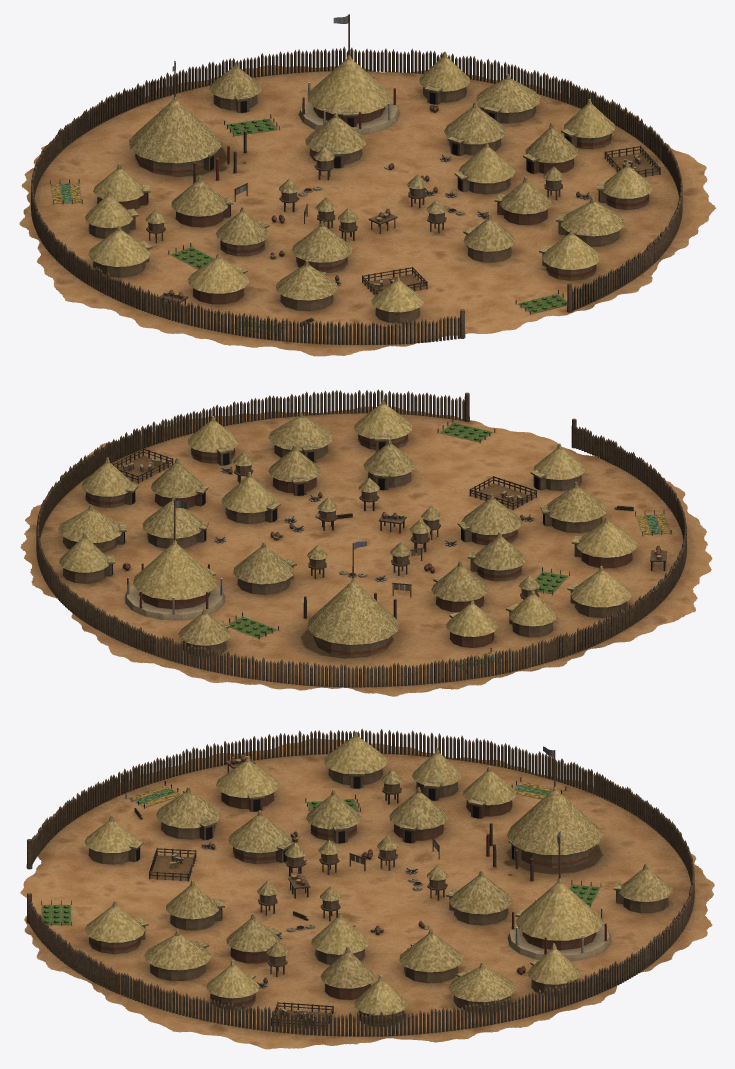
File: stone-town-big-a.glb
The picture shows the model from 3 angles, top to bottom: view 1: azimuth 30°, elevation 25°; view 2: azimuth 150°, elevation 25°; view 3: azimuth 270°, elevation 25°; orthographic projection. The views are drawn at different scales.
Visible parts, largest first — view 1: LOD0; view 2: LOD0; view 3: LOD0.
Part boxes in pixels (box(x1,y1,x2,y2)): LOD0: box(19, 14, 715, 356); LOD0: box(20, 389, 712, 696); LOD0: box(20, 728, 714, 1049).
Size of what is drawn, in the model's own units: 8.1 by 1.25 by 7.6.
3 materials, 3 textured.
